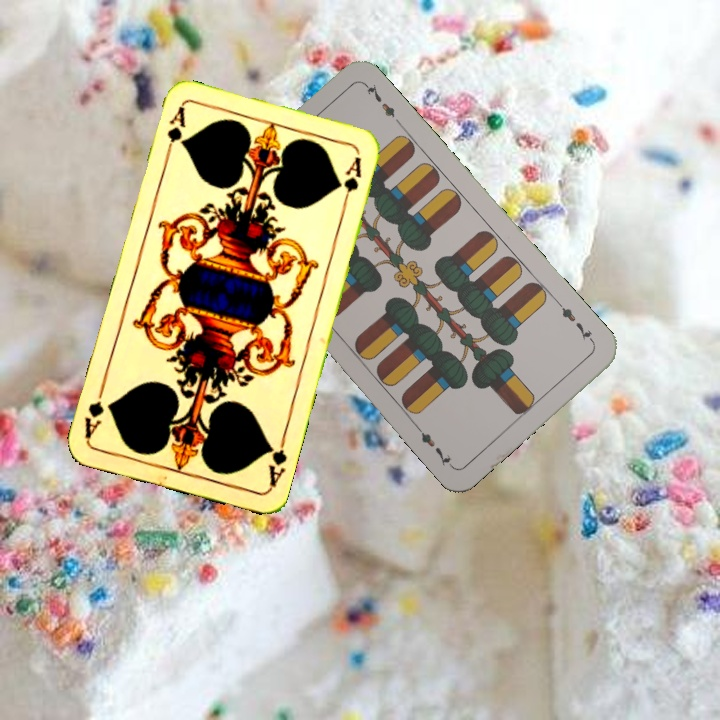E7: (553, 298, 597, 347)
GA: (263, 432, 290, 490), (161, 103, 188, 161)
